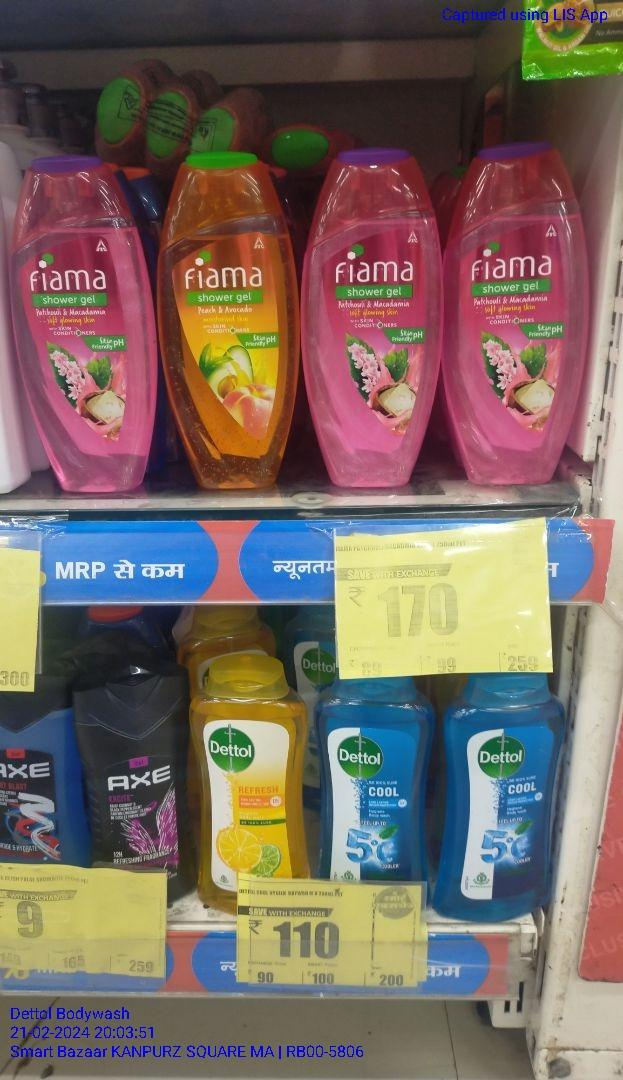Dettol_Bodywash_Cool: (436, 673, 569, 917), (321, 670, 434, 884)
Dettol_Bodywash_Refresh: (190, 666, 311, 894)
Fiama_Shower_Gel_Patchouli_and_Macadamia_250ML: (306, 146, 444, 494), (453, 146, 591, 490), (15, 162, 152, 495)
Fiama_Shower_Gel_Peach_and_Avocado_250ML: (160, 157, 299, 493)
